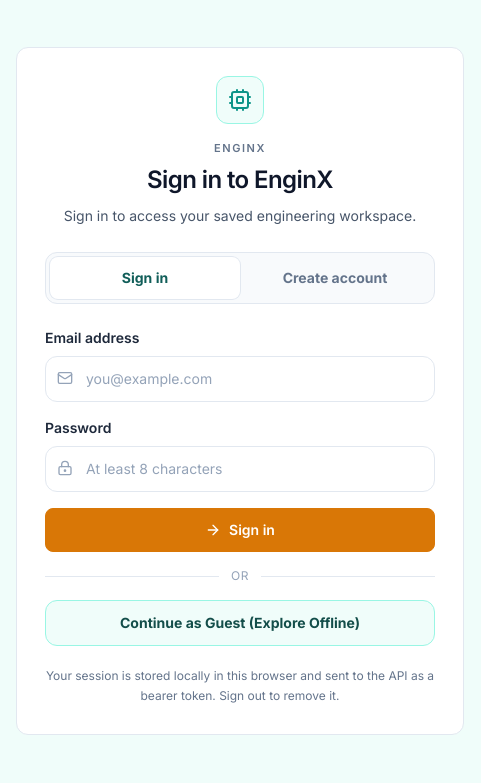
authentication screen › shows a recoverable credential error without leaving a partial session
This screenshot has width=481, height=783.
Type "learner@example.com" into the field labelled "Email address". click: point(240, 379)
box: [45,356,435,402]
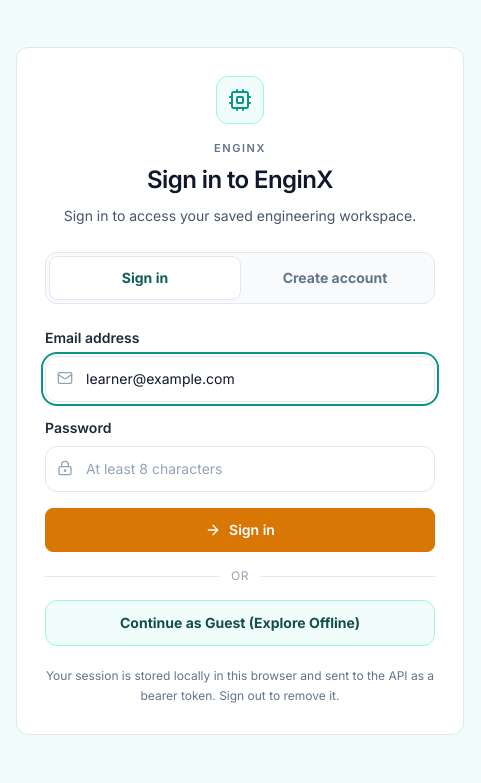
Type "wrong-password" into the password field labelled "Password". click: point(240, 469)
box: [45,446,435,492]
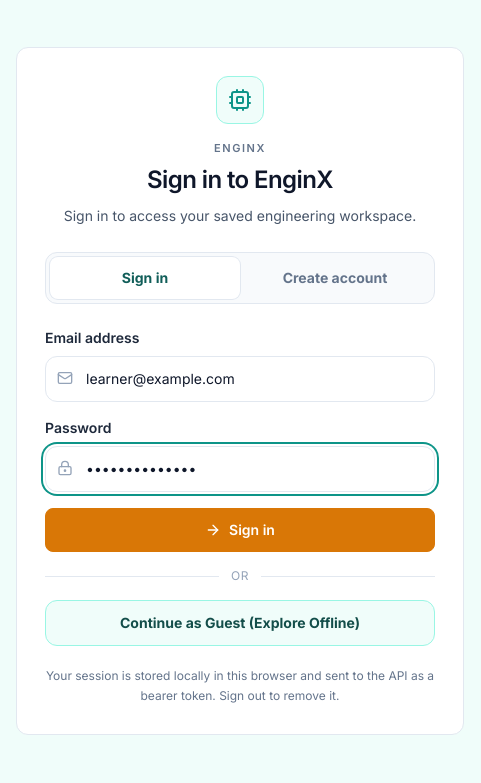
Click the button "Sign in". click: point(240, 530)
box: [45,508,435,552]
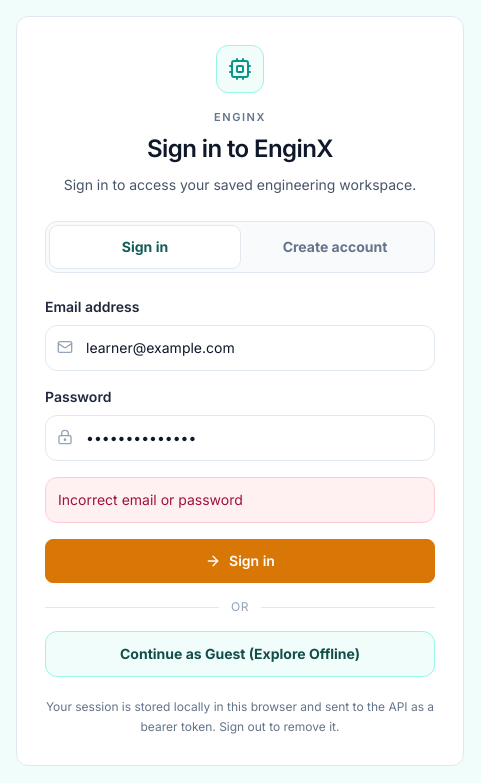
Check: the message reads "Incorrect email or password", box [58,491,243,508]
